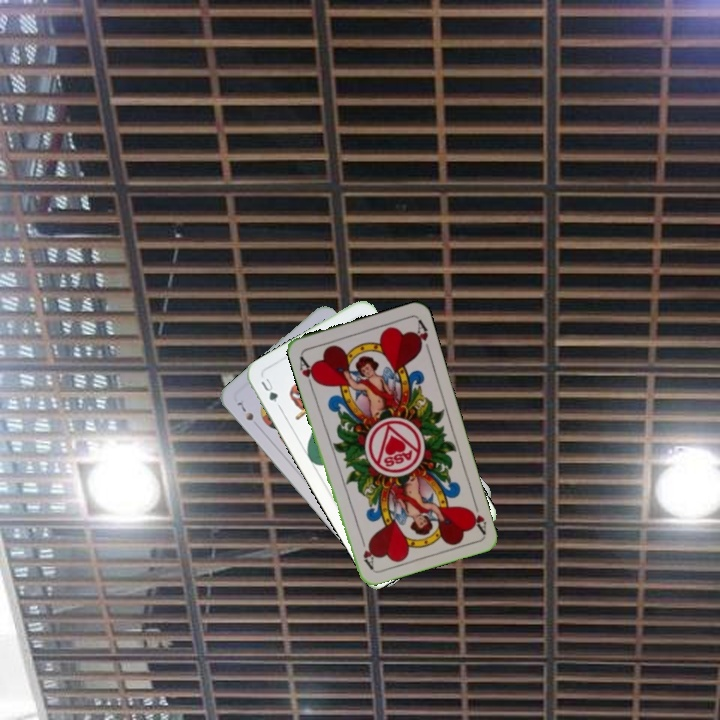GU: (257, 372, 281, 405)
HA: (295, 352, 321, 391), (464, 496, 489, 536)
S7: (233, 397, 256, 423)
